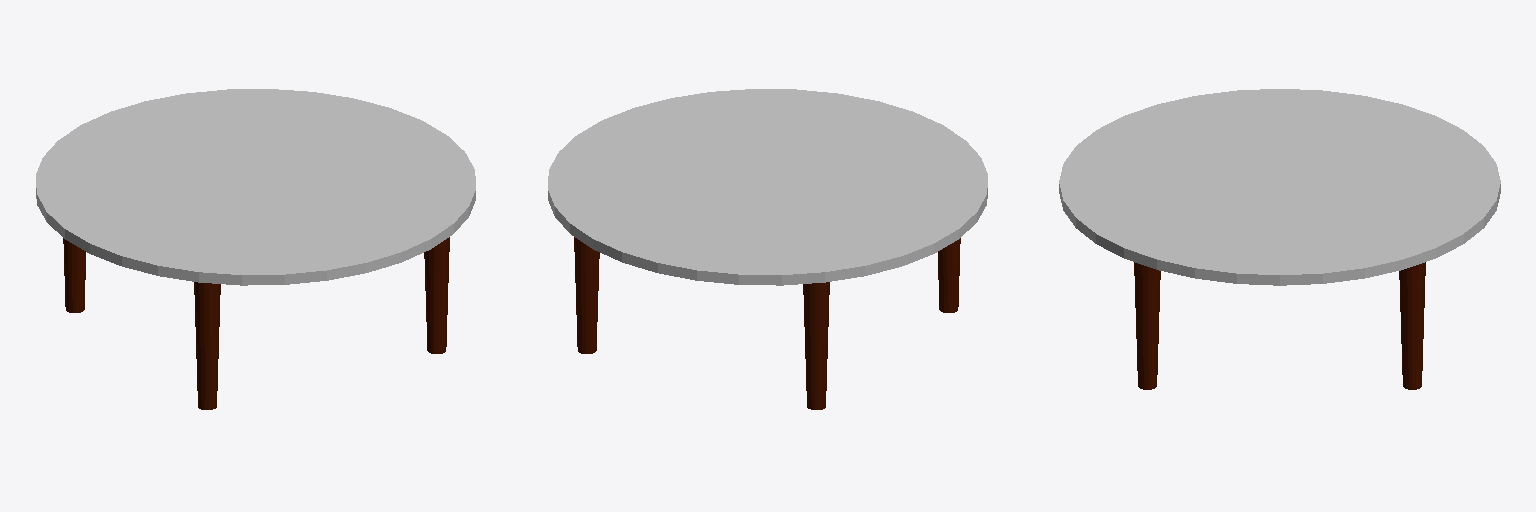
The model's file is Table.obj.
3 views of the same model, side by side, from view 1: azimuth 30°, elevation 25°; view 2: azimuth 150°, elevation 25°; view 3: azimuth 270°, elevation 25° (orthographic).
Parts seen in each view (by area): view 1: Circle.015_Circle.020; view 2: Circle.015_Circle.020; view 3: Circle.015_Circle.020.
Boxes of the visible parts, <box> form: Circle.015_Circle.020: <box>36,89,475,409</box>; Circle.015_Circle.020: <box>548,89,987,409</box>; Circle.015_Circle.020: <box>1059,89,1500,389</box>.
Bounding box in the file's own units: 2.71 × 1 × 2.71.